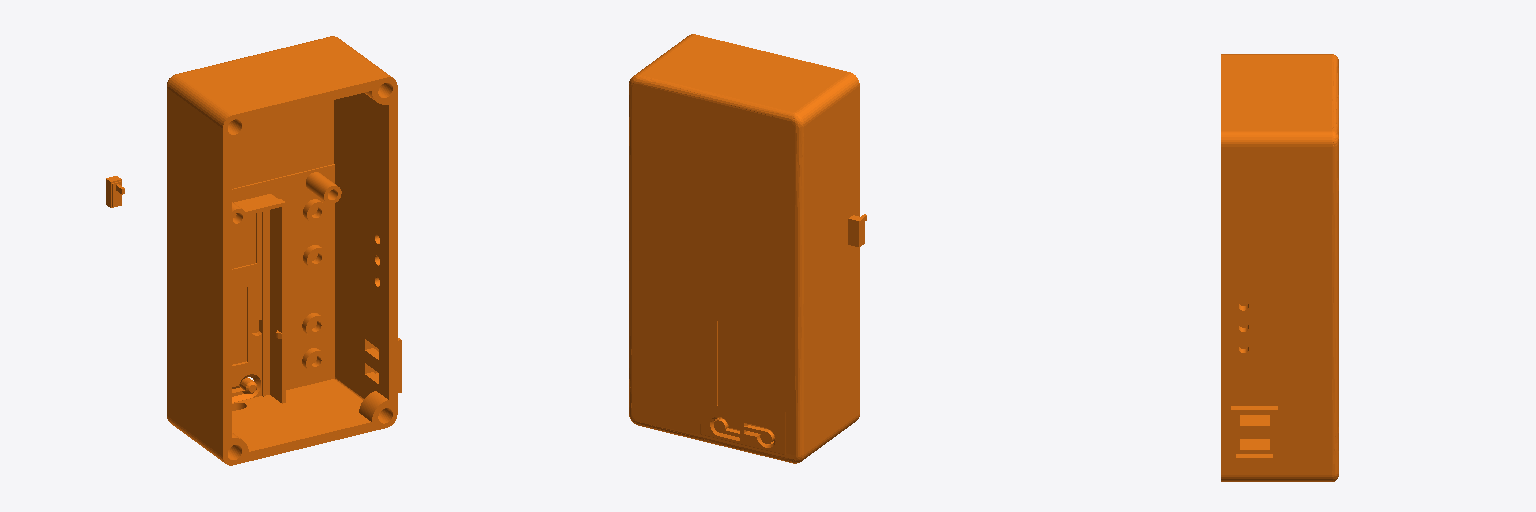
File: Bottom.obj
The picture shows the model from 3 angles: view 1: azimuth 30°, elevation 25°; view 2: azimuth 150°, elevation 25°; view 3: azimuth 270°, elevation 25°; orthographic projection.
Parts seen in each view (by area): view 1: obj_0; view 2: obj_0; view 3: obj_0.
Boxes of the visible parts, <box> form: obj_0: <box>106,36,401,465</box>; obj_0: <box>629,34,866,463</box>; obj_0: <box>1221,54,1338,481</box>.
Bounding box in the file's own units: 83.05 × 115 × 35.